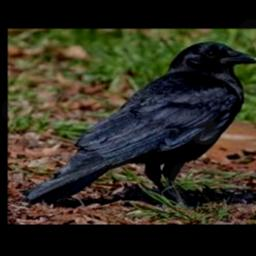Crow: (25, 40, 256, 206)
